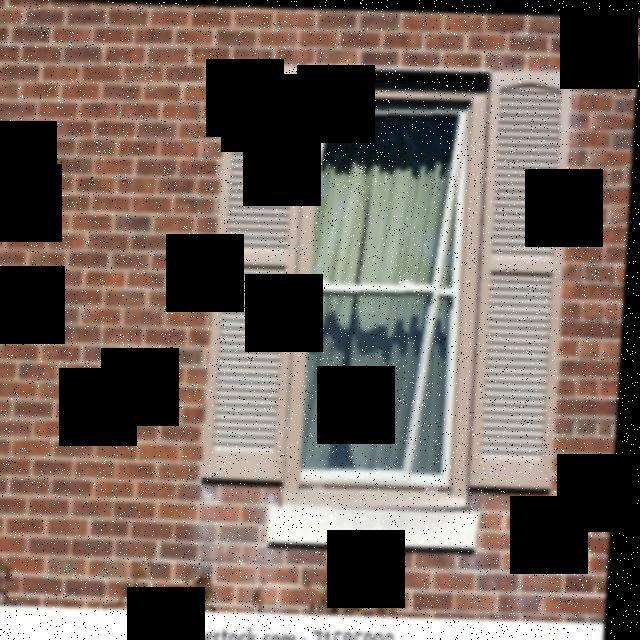Window: (306, 95, 474, 485)
